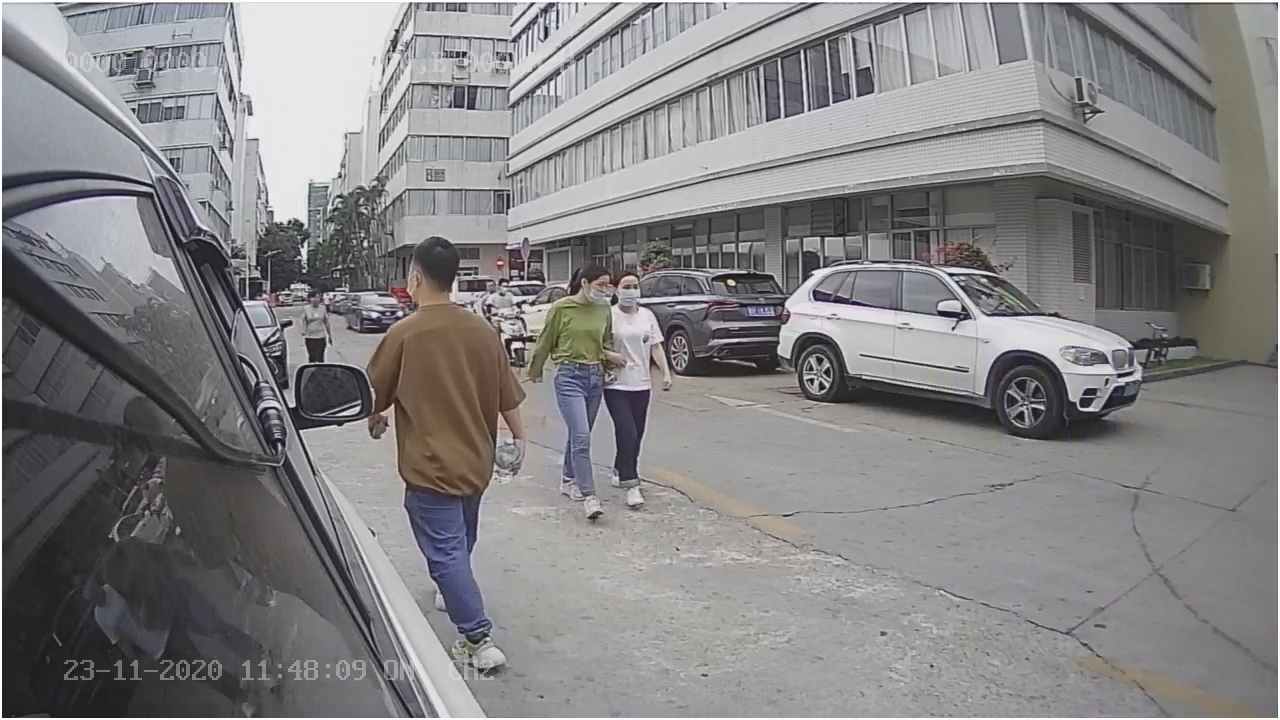person: (367, 229, 529, 482)
